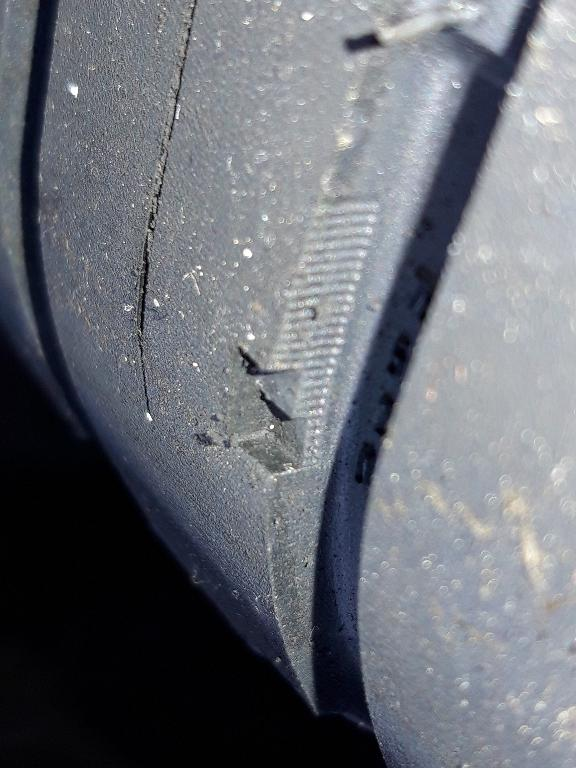temoin:50: (214, 305, 354, 486)
